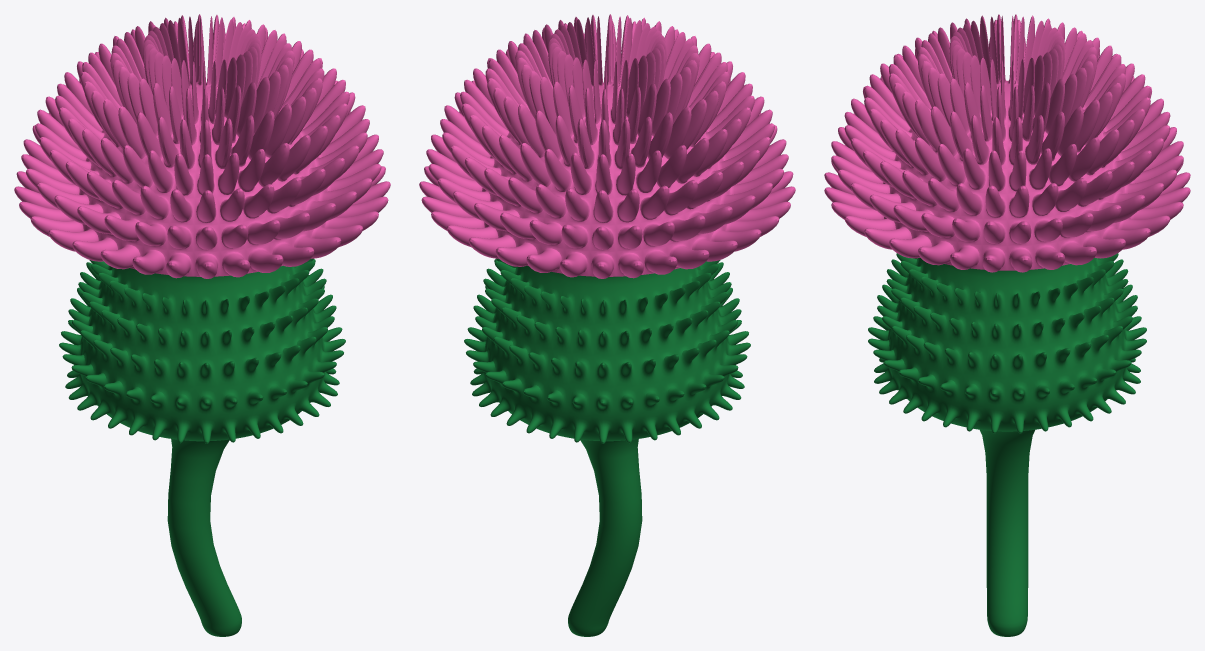
File: thistle-3d-icon-718410898422.glb
The picture shows the model from 3 angles, left to right: view 1: azimuth 30°, elevation 25°; view 2: azimuth 150°, elevation 25°; view 3: azimuth 270°, elevation 25°; orthographic projection. The views are drawn at different scales.
Parts seen in each view (by area): view 1: Petals, Stem; view 2: Petals, Stem; view 3: Petals, Stem.
Part boxes in pixels (left/top/right/bottom): Petals: left=14, top=14, right=390, bottom=278; Stem: left=59, top=258, right=345, bottom=636; Petals: left=419, top=14, right=795, bottom=278; Stem: left=464, top=258, right=750, bottom=636; Petals: left=824, top=14, right=1190, bottom=272; Stem: left=868, top=253, right=1146, bottom=636.
Size of the model in its own units: 1.12 by 1.96 by 1.12.
